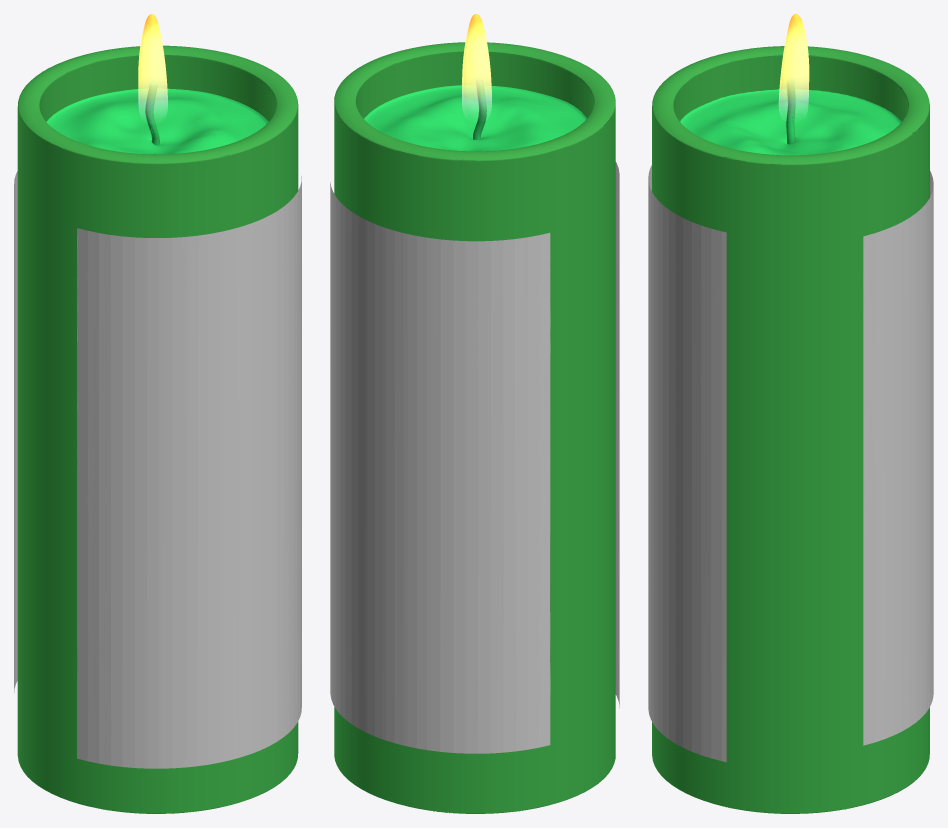
File: singleCandleAnimatedFlame1.glb
3 views of the same model, side by side, from view 1: azimuth 30°, elevation 25°; view 2: azimuth 150°, elevation 25°; view 3: azimuth 270°, elevation 25° (orthographic).
Parts seen in each view (by area): view 1: Label2, glass, wax, Flame.001, Label1; view 2: Label1, glass, wax, Label2, Flame.001; view 3: glass, Label2, Label1, wax, Flame.001.
Boxes of the visible parts, <box> form: Label2: <box>77,176,301,768</box>; glass: <box>17,45,298,813</box>; wax: <box>46,84,268,154</box>; Flame.001: <box>138,14,167,115</box>; Label1: <box>14,171,17,692</box>; Label1: <box>330,182,550,753</box>; glass: <box>334,42,615,813</box>; wax: <box>364,83,586,151</box>; Label2: <box>615,162,619,707</box>; Flame.001: <box>462,14,491,114</box>; glass: <box>652,46,929,813</box>; Label2: <box>648,165,726,761</box>; Label1: <box>863,171,933,745</box>; wax: <box>680,83,901,155</box>; Flame.001: <box>778,14,809,114</box>.
Size of the model in its own units: 0.7465 by 2.17 by 0.7589.
5 materials, 1 textured.
